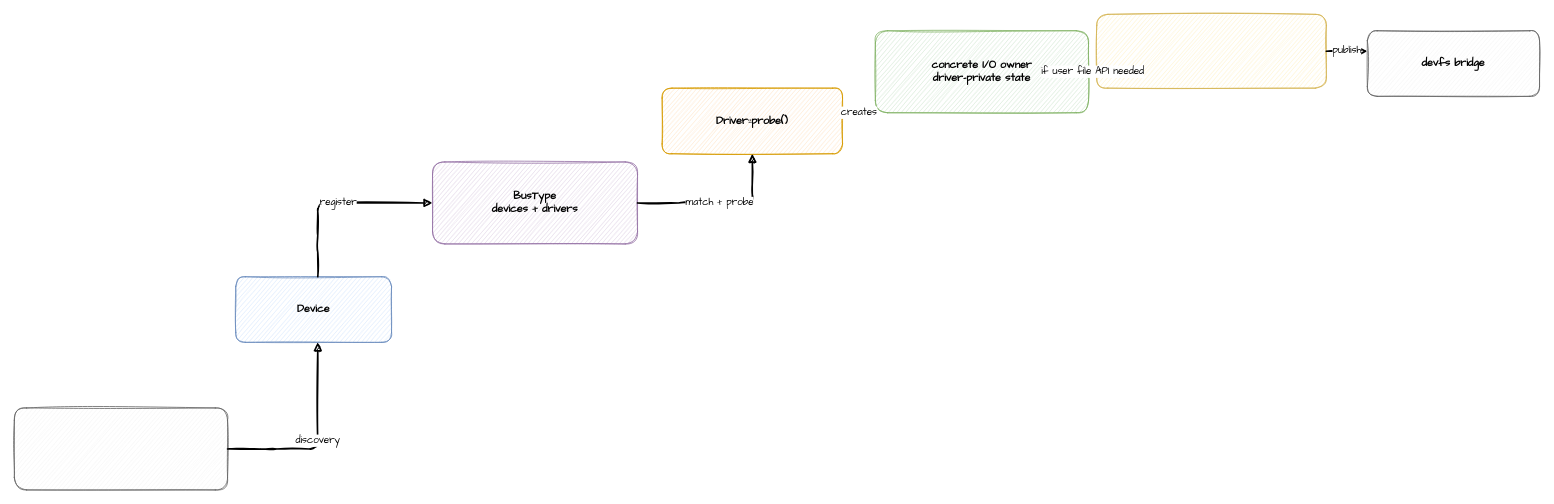
Some shapes in this 1554 by 504 pixel diagram are drawn without their labels. Here are the shapes that lost their labels. From the top down, the centre of each, then its label:
At (x=1211, y=51): "char / block registry optional publication".
At (x=121, y=448): "firmware / PCIe config virtio transport".
